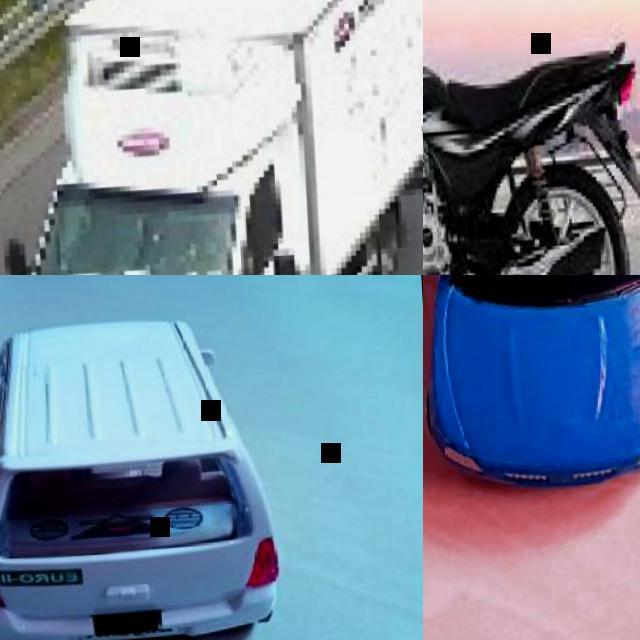car: (1, 320, 280, 639), (419, 0, 639, 290)
